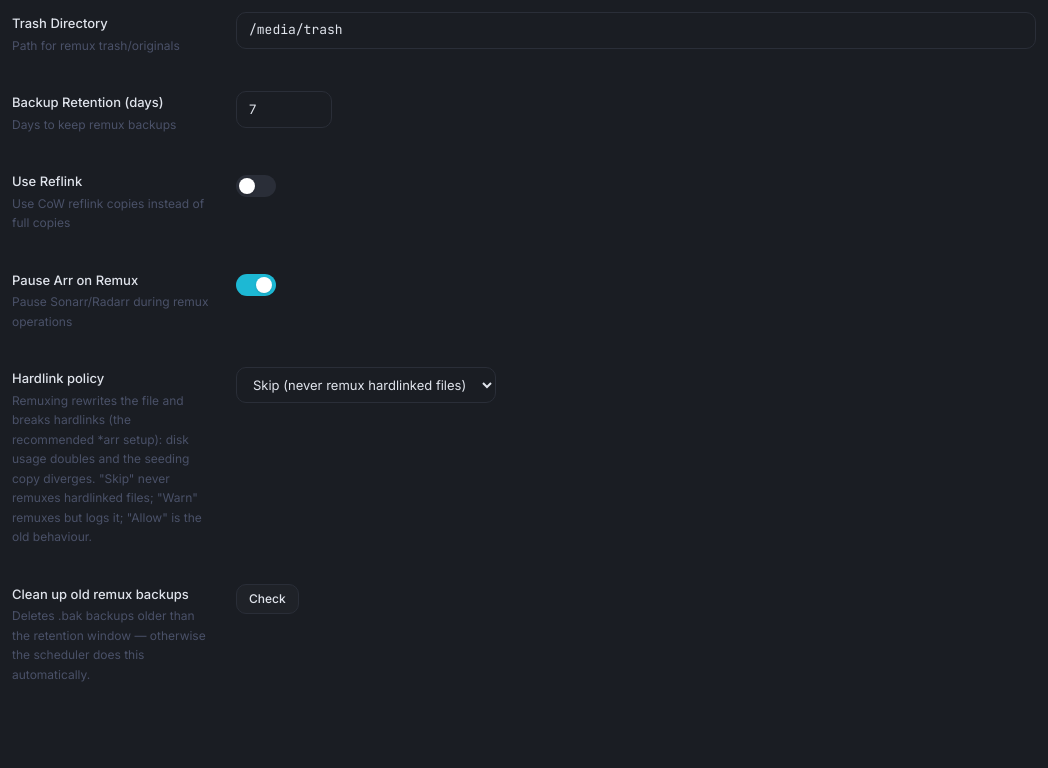
Test: RemuxTab › shows a "nothing to clean" message when the dry-run count is 0
Click the button "Check" at (267, 598), box [236,584,299,614]
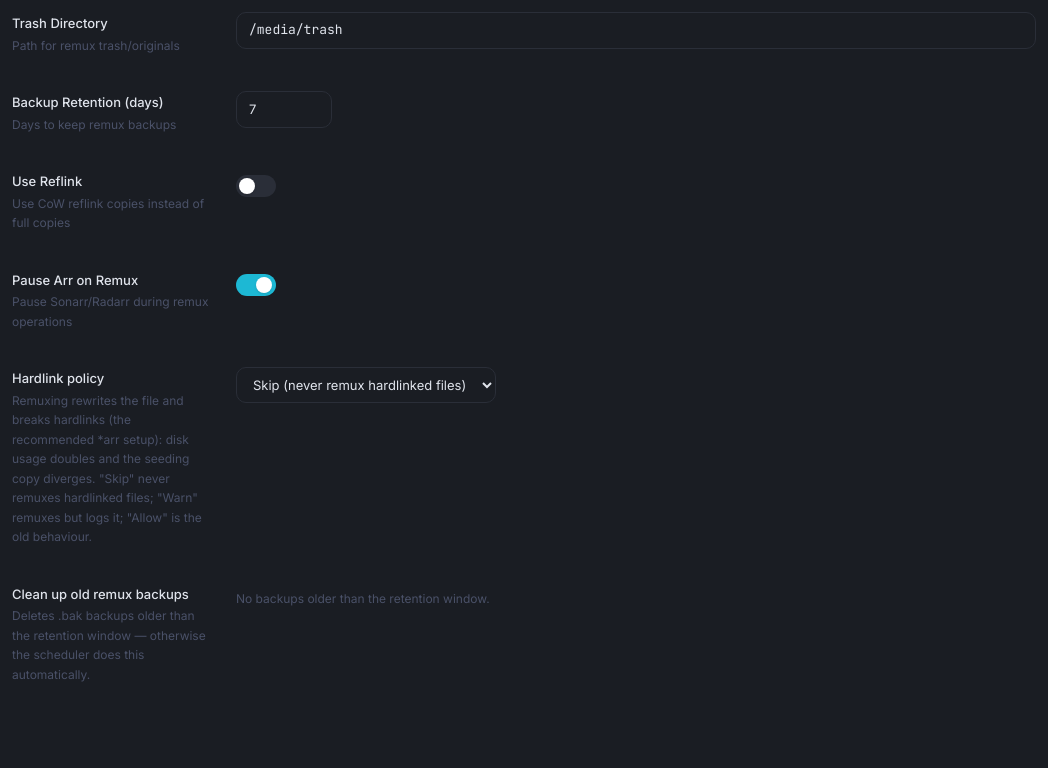
Expected: the text "No backups older than the retention window." is shown, [236,590,490,606]
